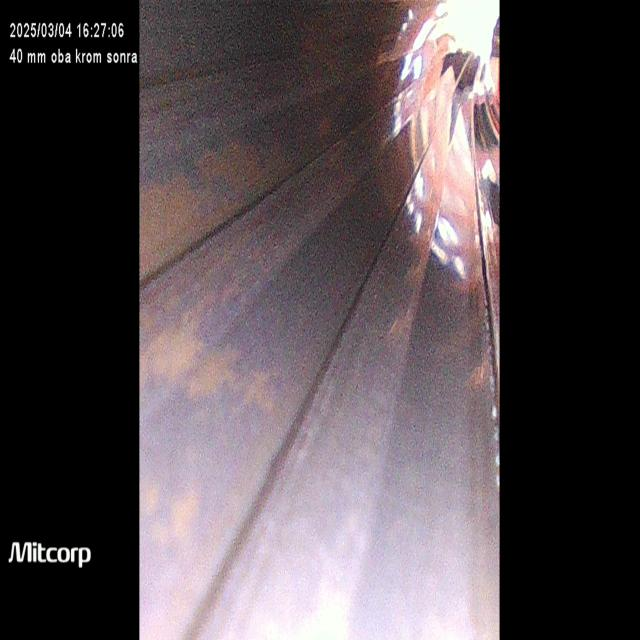hata_4.2: (138, 109, 295, 285), (137, 201, 305, 364), (166, 438, 278, 640), (142, 307, 292, 423), (143, 471, 208, 570)
